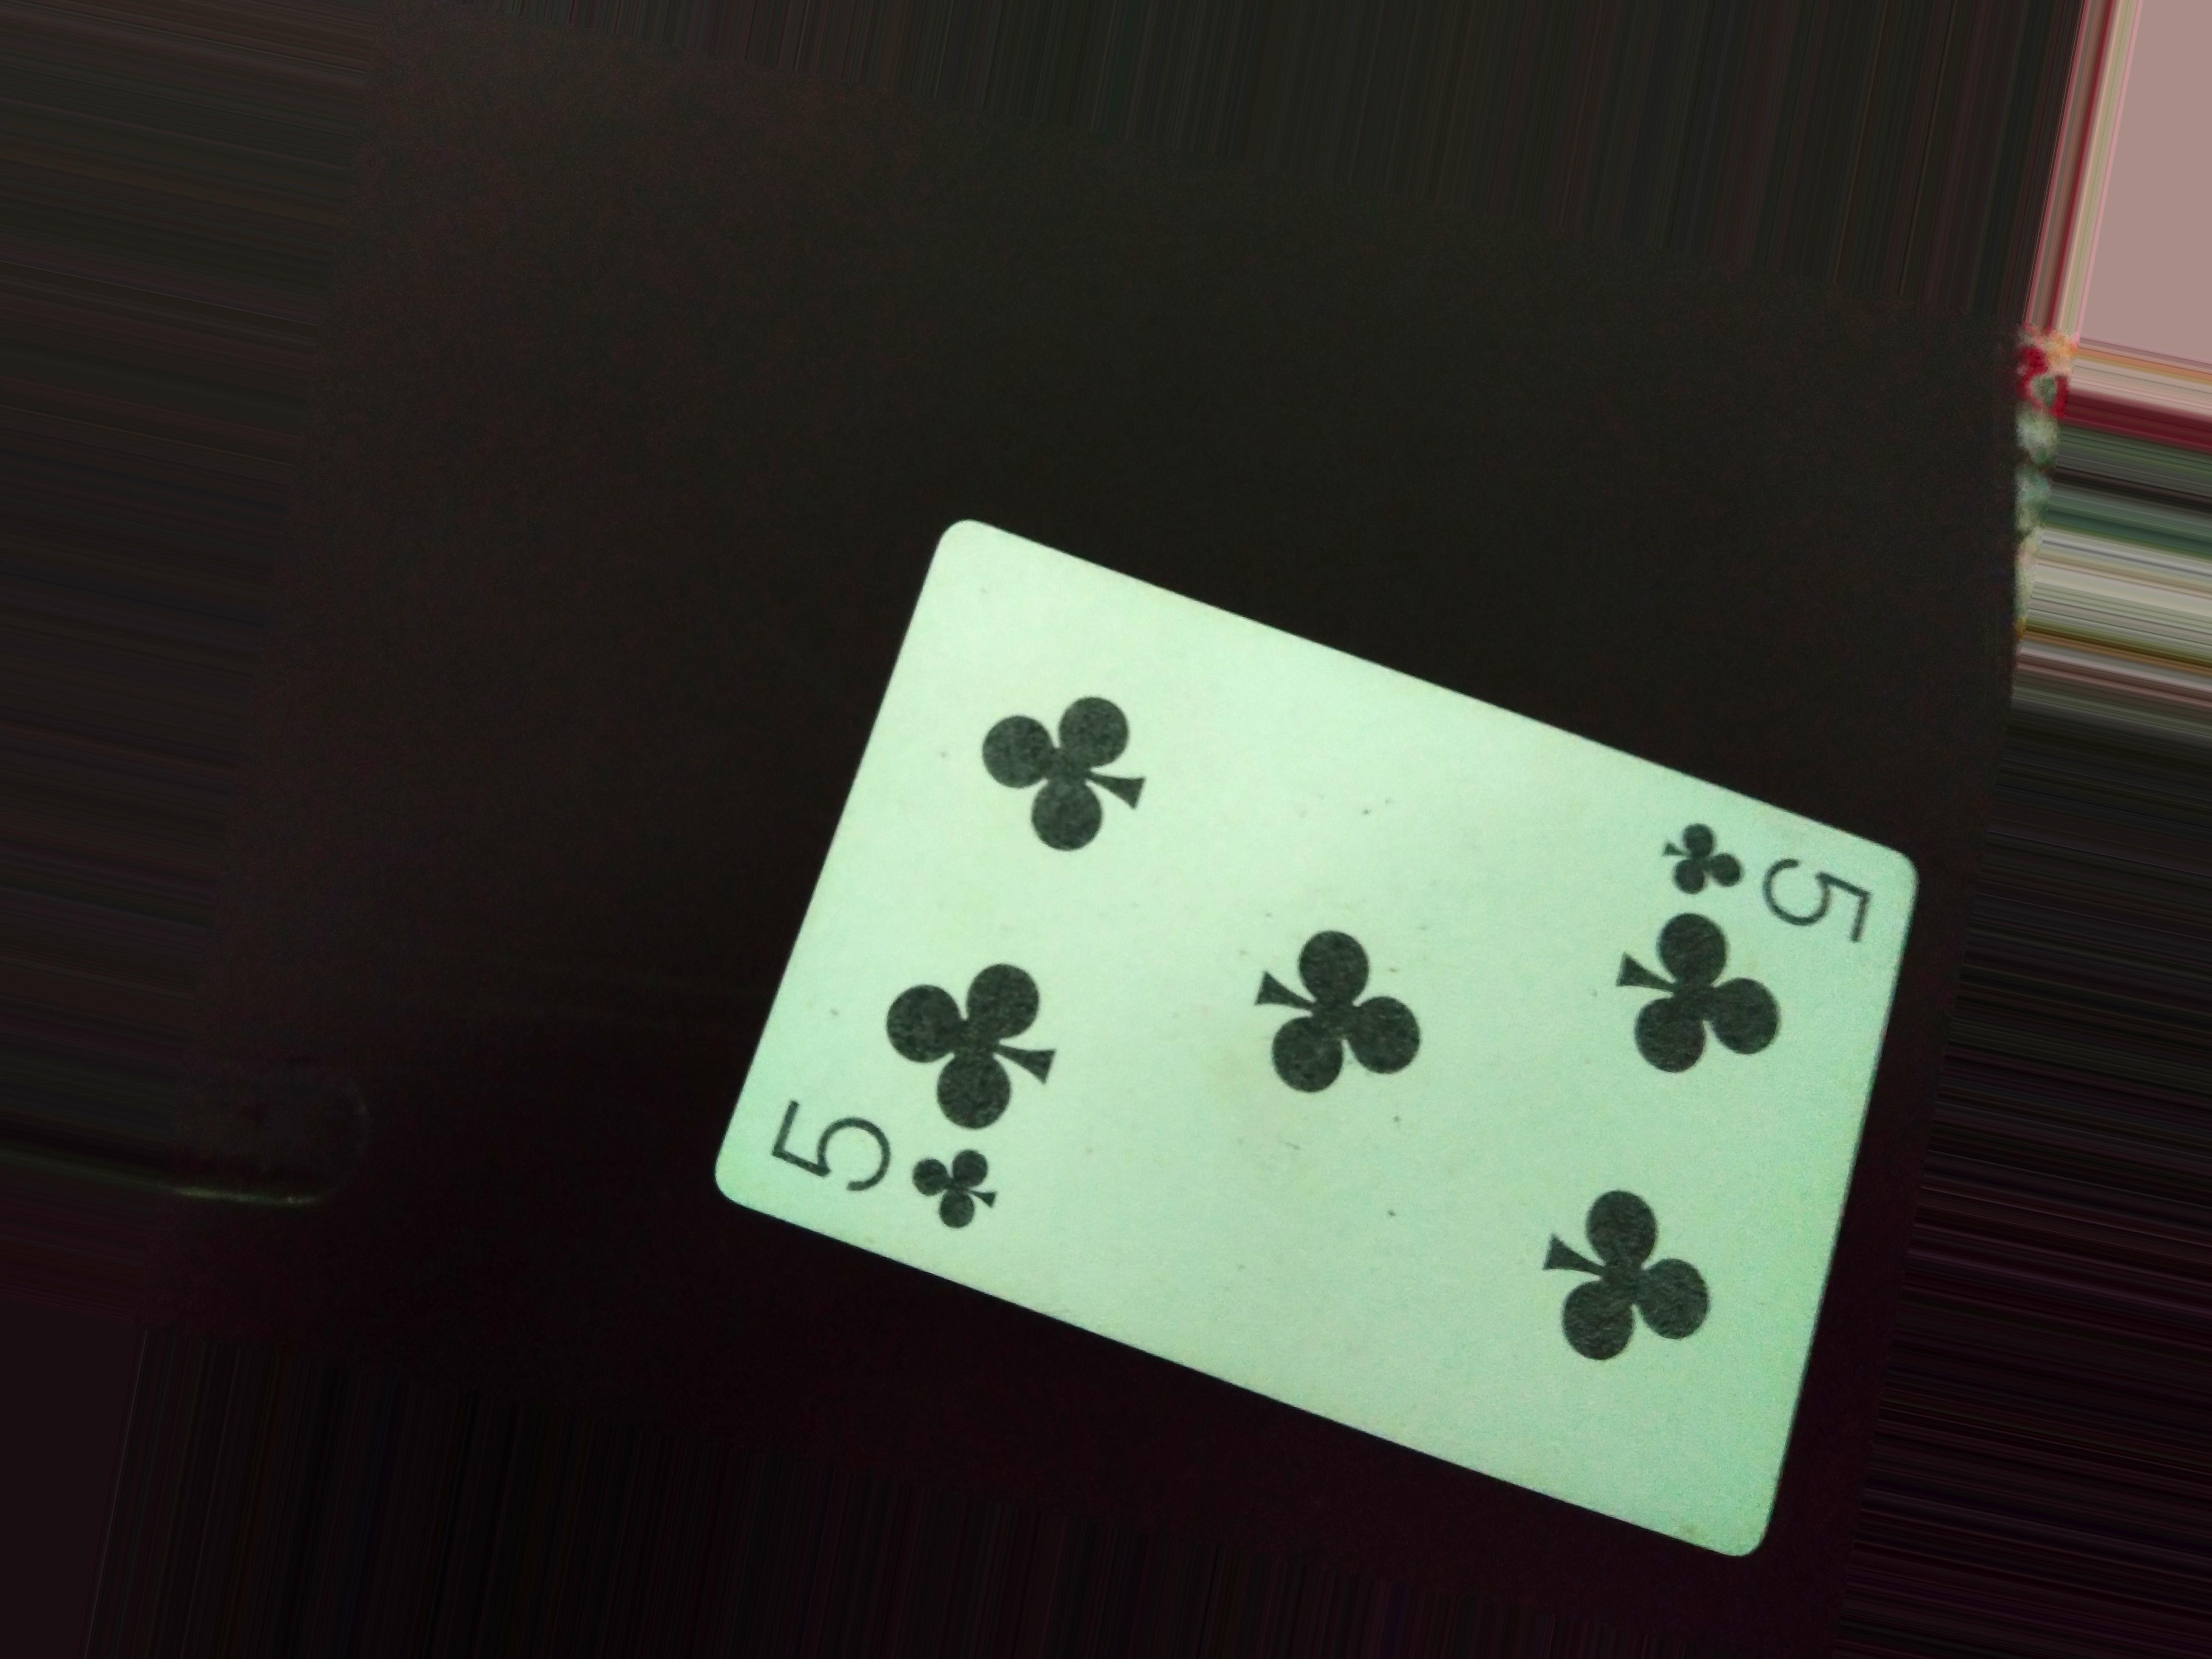5C: (1656, 798, 1918, 955)
